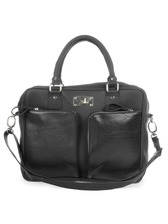bag: (3, 31, 165, 191)
